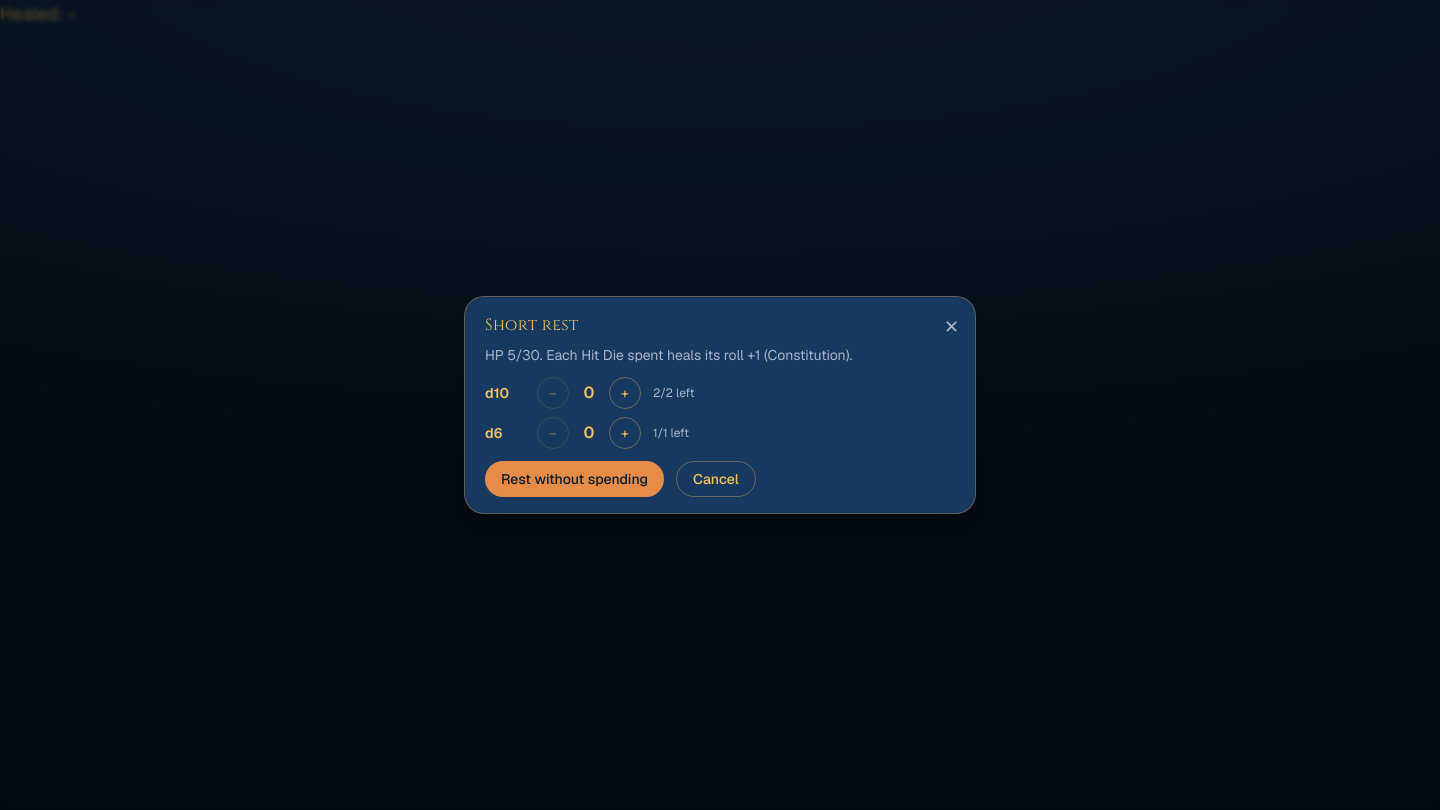
Test case: ShortRestDialog › wired to getHitDicePools/spendHitDice (as the character page does) › spending a d10 and a d6 heals roll + Con per die and marks them spent
Expected: the text "2/2 left" is shown, [653, 385, 694, 401]
Expected: the text "1/1 left" is shown, [653, 425, 689, 441]
Click the button "+" in the row of "10".
click(625, 393)  # box [609, 377, 641, 409]
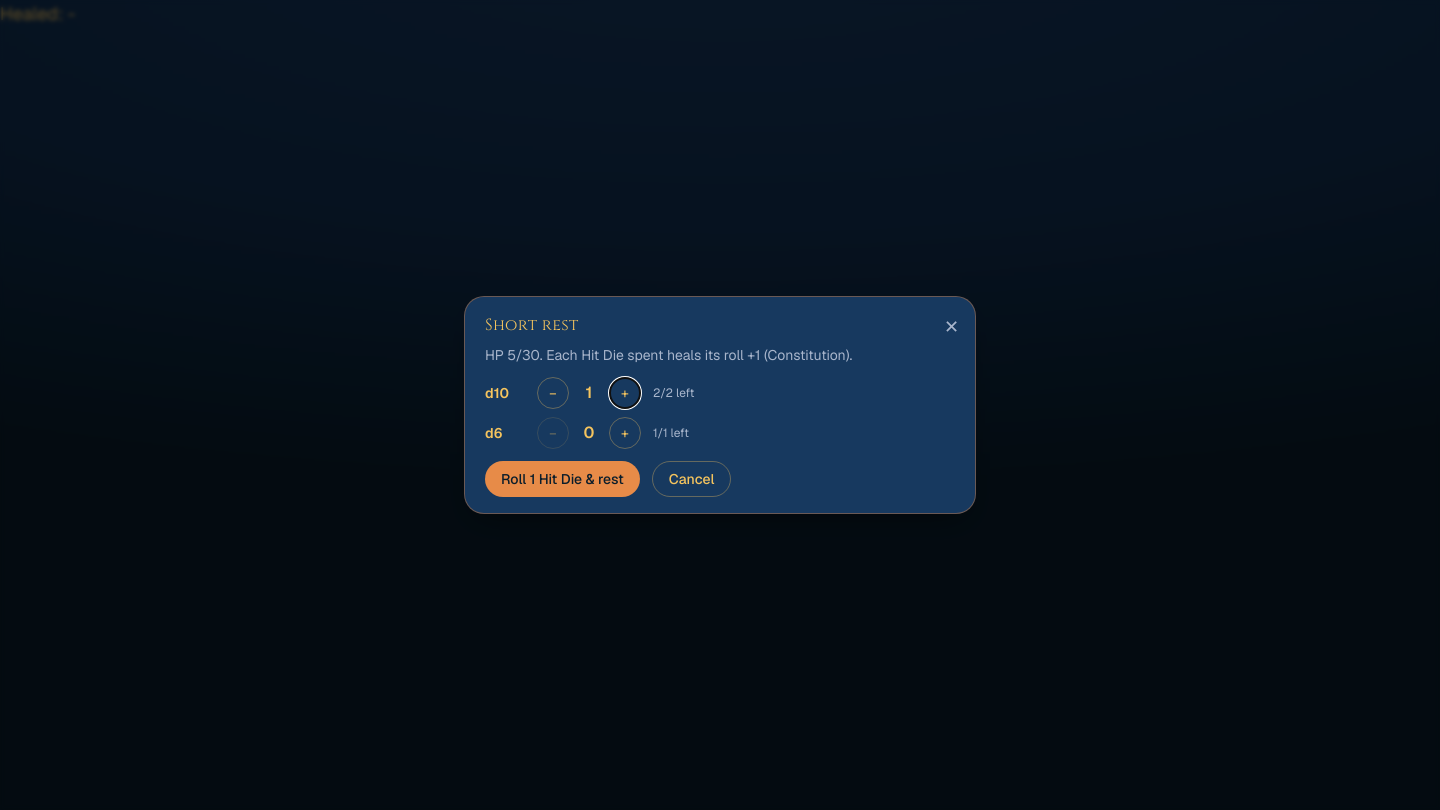
Click the 2nd button "+".
click(625, 433)  # box [609, 417, 641, 449]
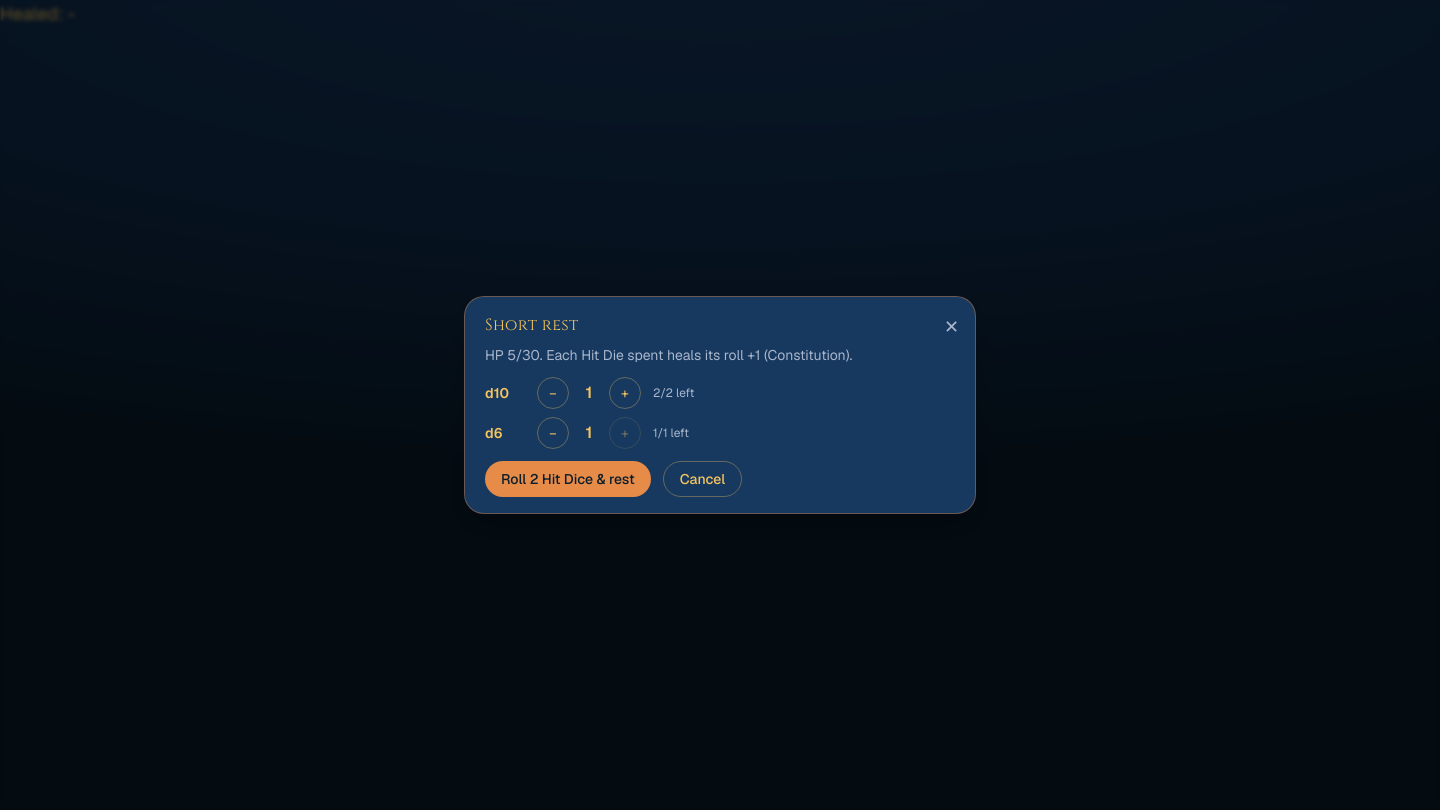
Click the button "Roll 2 Hit Dice & rest".
click(568, 479)  # box [485, 461, 651, 497]
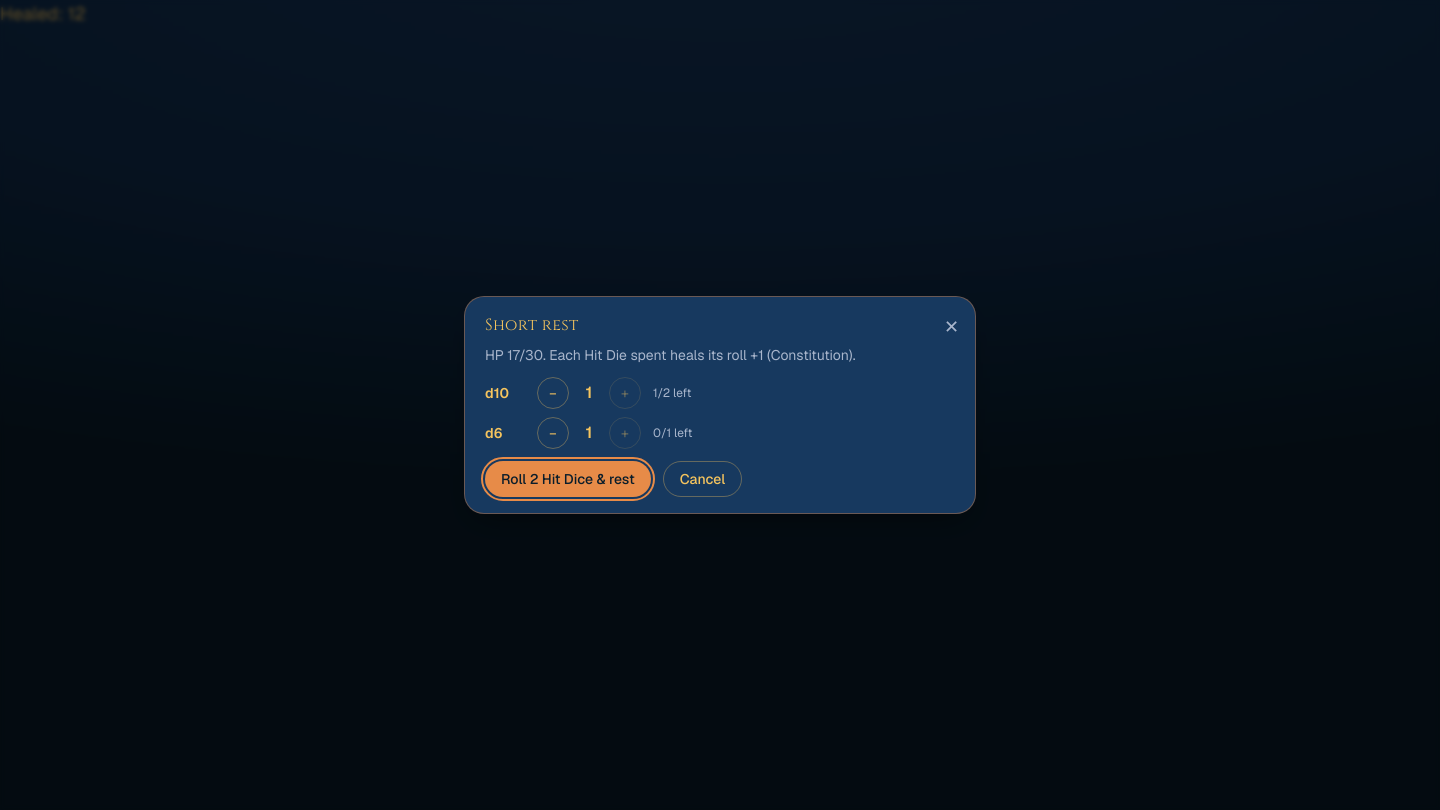
Expected: the text "Healed: 12" is shown, [0, 2, 86, 25]
Expected: the dialog shows "HP 17/30", [464, 296, 976, 514]
Expected: the text "1/2 left" is shown, [653, 385, 692, 401]
